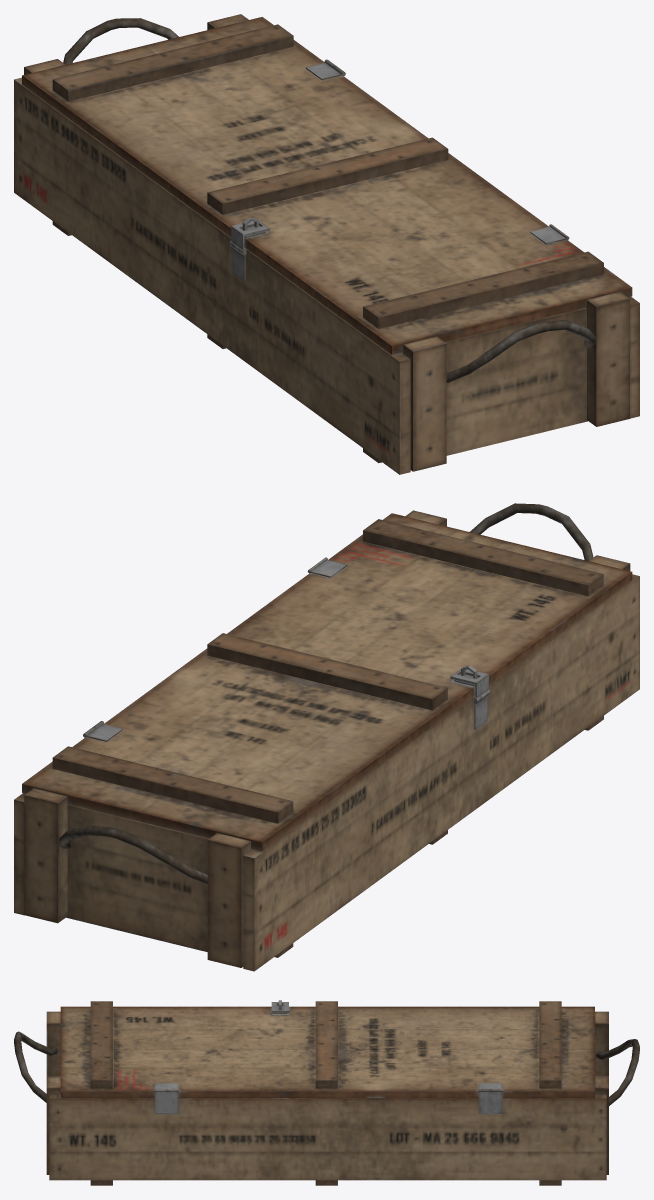
File: rifle-box--low-poly-aaa6d5.glb
The picture shows the model from 3 angles, top to bottom: view 1: azimuth 30°, elevation 25°; view 2: azimuth 150°, elevation 25°; view 3: azimuth 270°, elevation 25°; orthographic projection. The views are drawn at different scales.
Visible parts, largest first — view 1: PropMesh; view 2: PropMesh; view 3: PropMesh.
Part boxes in pixels (bbox=[...]): PropMesh: bbox=[14, 14, 639, 474]; PropMesh: bbox=[14, 503, 639, 971]; PropMesh: bbox=[14, 1000, 639, 1185].
Size of the model in its own units: 0.6584 by 0.3815 by 2.
Materials: 1 (1 with a texture image).
